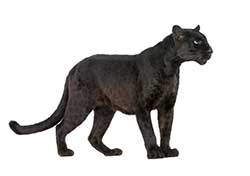panther: (8, 23, 213, 157)
